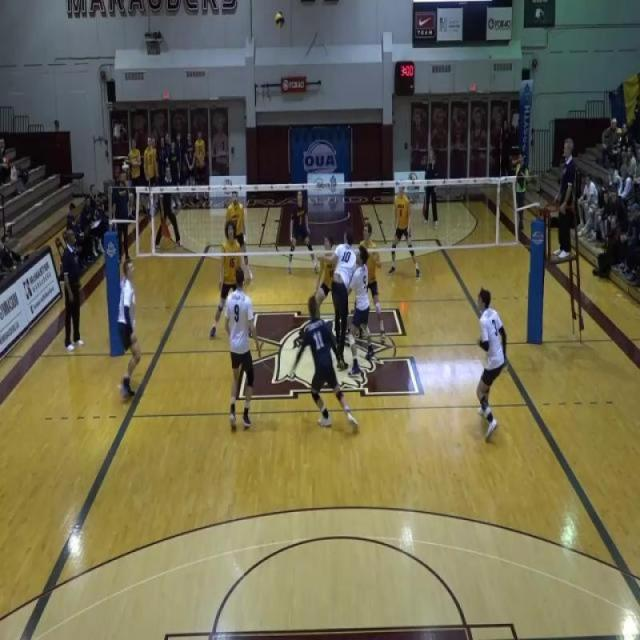volleyball: (274, 9, 286, 30)
